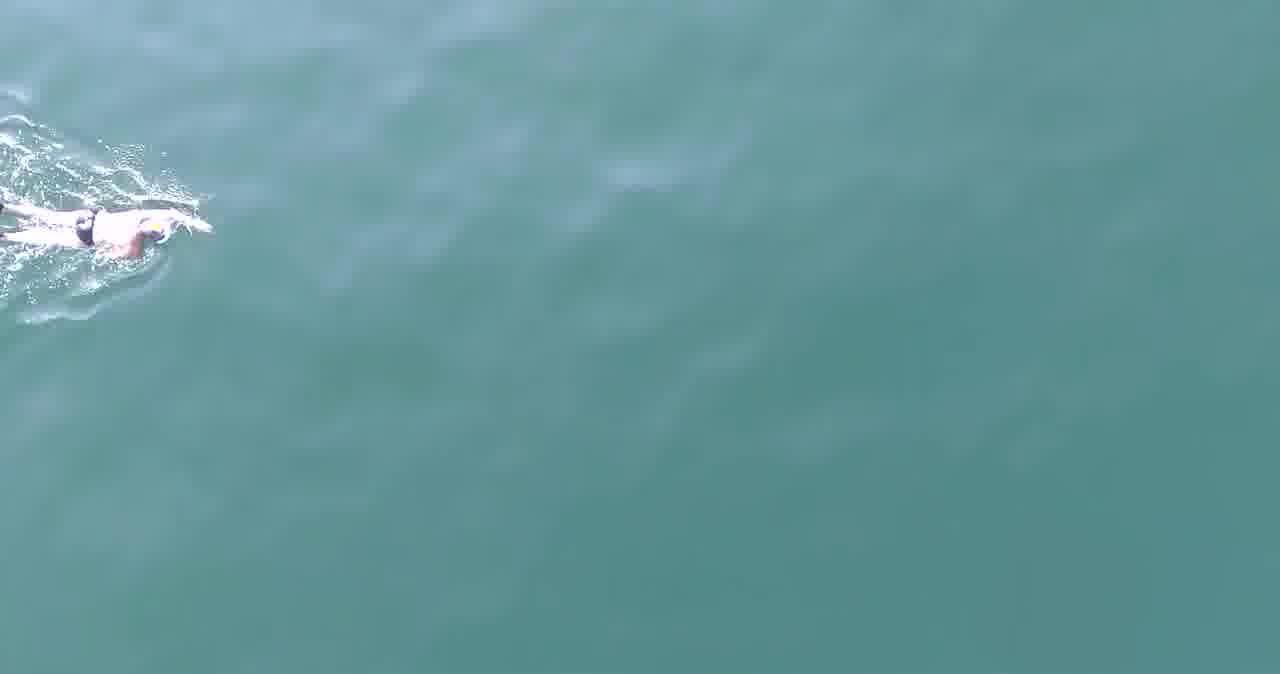human: (100, 191, 184, 275)
